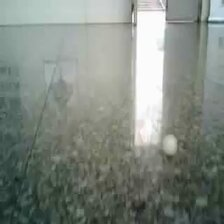w: (162, 133, 178, 157)
